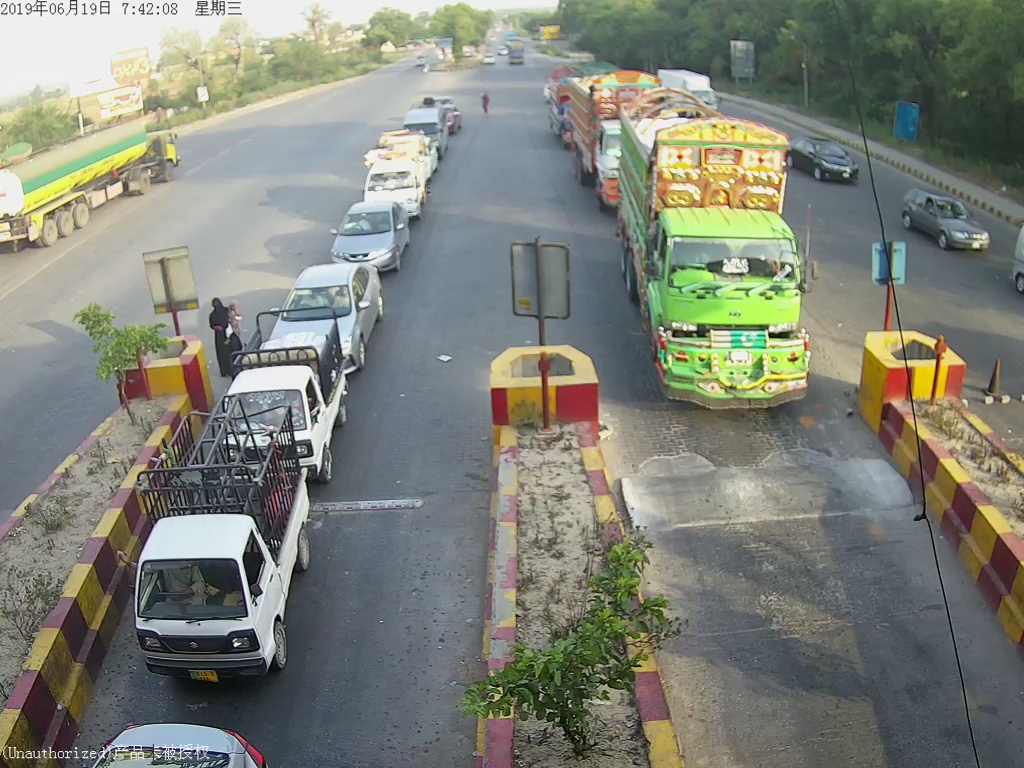Cat-1: (134, 414, 319, 678), (238, 320, 345, 427), (333, 205, 407, 268)
Cat-4: (619, 85, 823, 429)
